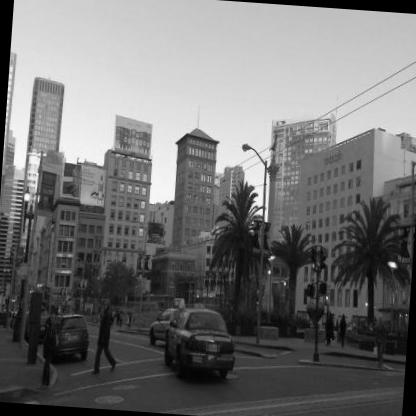car: (157, 307, 244, 386)
